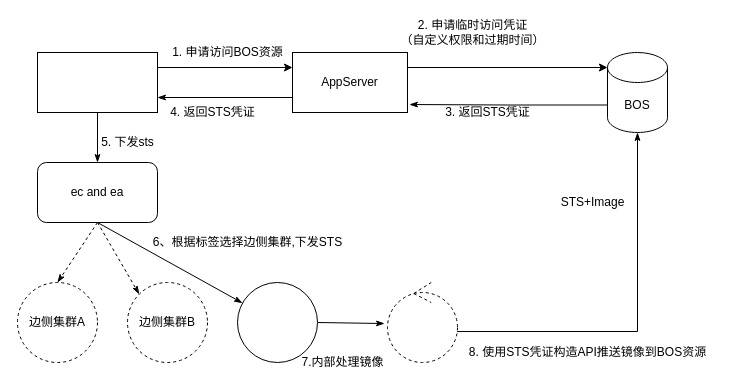
This 730x389 diagram has some shape labels left out. Here are the shapes that lost their labels. From the top down, the box of each, then its label:
(36, 52, 158, 112): Service
(236, 282, 318, 362): 边侧集群C
(386, 282, 458, 362): image-controller
